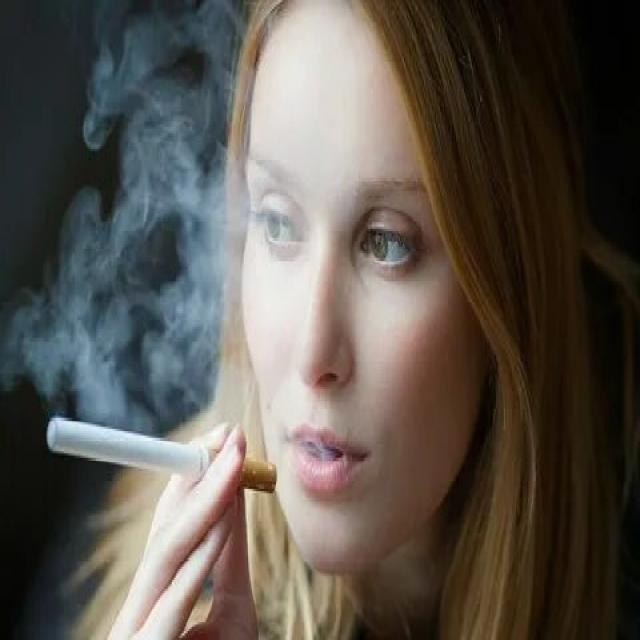cigarette: (45, 409, 278, 498)
